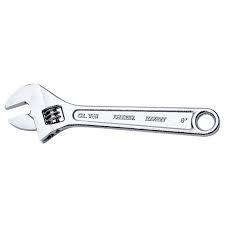wrench: (3, 81, 220, 143)
